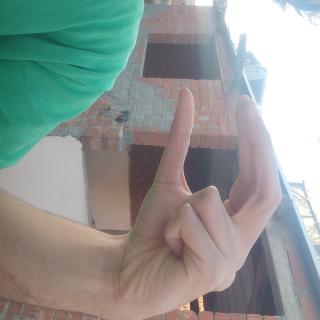DHELL: (64, 47, 240, 286)
